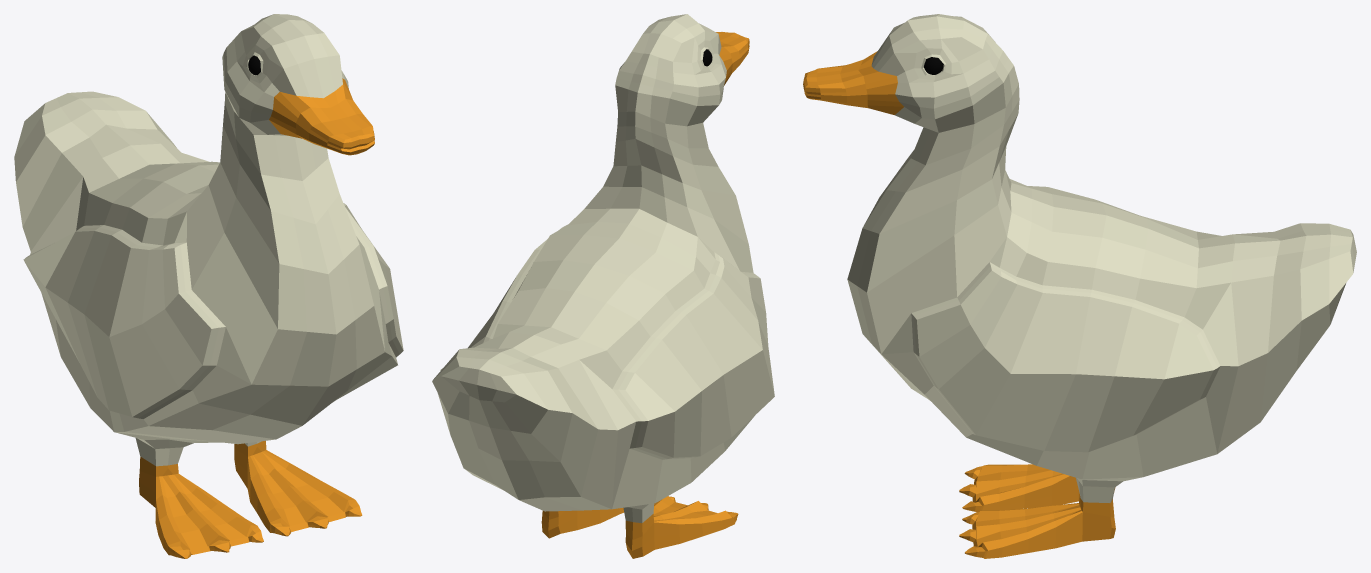
The model's file is Duck.fbx.
3 renders of one model, left to right at view 1: azimuth 30°, elevation 25°; view 2: azimuth 150°, elevation 25°; view 3: azimuth 270°, elevation 25°, orthographic. The views are drawn at different scales.
Parts seen in each view (by area): view 1: Duckk; view 2: Duckk; view 3: Duckk.
Boxes of the visible parts, x1,y1,x2,y2 form: Duckk: (14, 14, 403, 558); Duckk: (432, 14, 774, 558); Duckk: (803, 14, 1356, 558).
Size of the model in its own units: 112 by 203 by 204.
